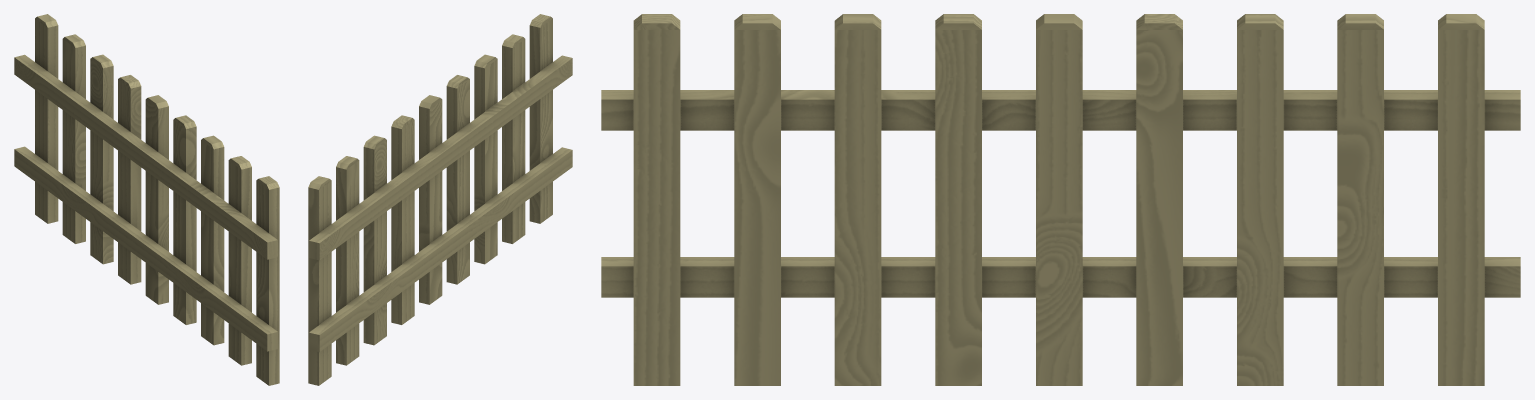
The picture shows the model from 3 angles, left to right: view 1: azimuth 30°, elevation 25°; view 2: azimuth 150°, elevation 25°; view 3: azimuth 270°, elevation 25°; orthographic projection. The views are drawn at different scales.
Visible parts, largest first — view 1: node-0; view 2: node-0; view 3: node-0.
Part boxes in pixels (<box>): node-0: <box>14,14,279,385</box>; node-0: <box>308,14,572,385</box>; node-0: <box>601,14,1520,385</box>.
Bounding box in the file's own units: 0.9501 × 8.57 × 19.69.
Materials: 1 (1 with a texture image).
